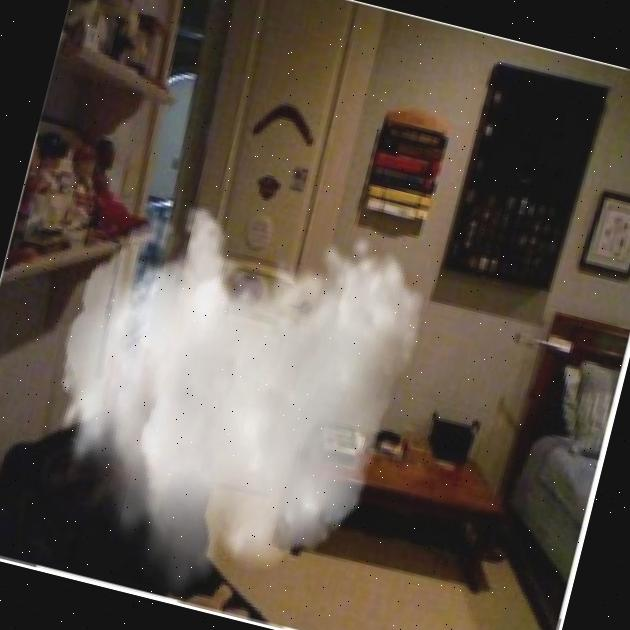smoke: (11, 168, 441, 630)
